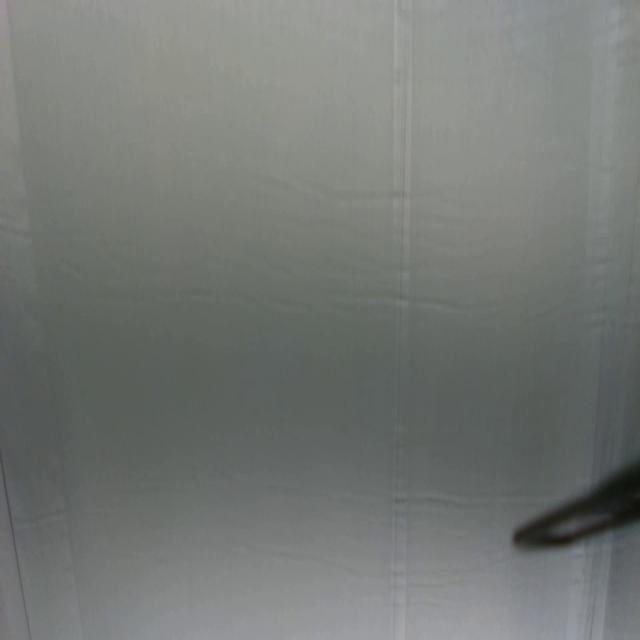crease: (0, 0, 83, 637), (575, 0, 640, 460), (388, 0, 411, 639)
